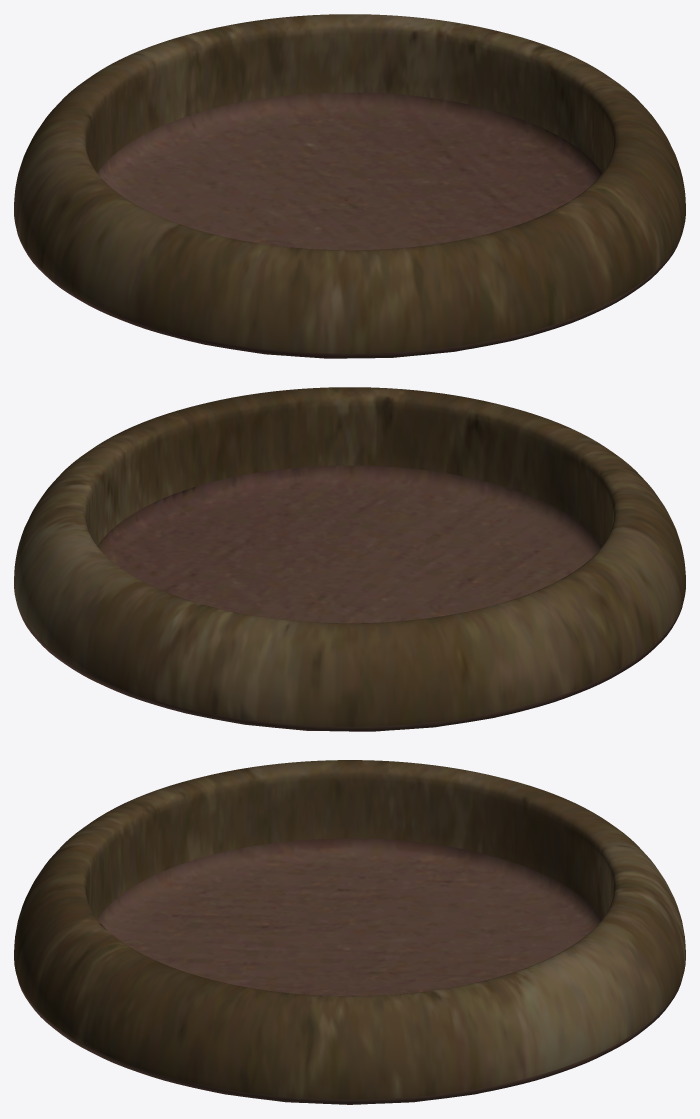
File: holeForDice.gltf
The picture shows the model from 3 angles, top to bottom: view 1: azimuth 30°, elevation 25°; view 2: azimuth 150°, elevation 25°; view 3: azimuth 270°, elevation 25°; orthographic projection.
Visible parts, largest first — view 1: holeForDice; view 2: holeForDice; view 3: holeForDice.
Part boxes in pixels (x1=…): holeForDice: x1=14, y1=14, x2=685, y2=358; holeForDice: x1=14, y1=387, x2=685, y2=731; holeForDice: x1=14, y1=760, x2=685, y2=1104.
Size of the model in its own units: 0.3101 by 0.047 by 0.3101.
Materials: 1 (1 with a texture image).
